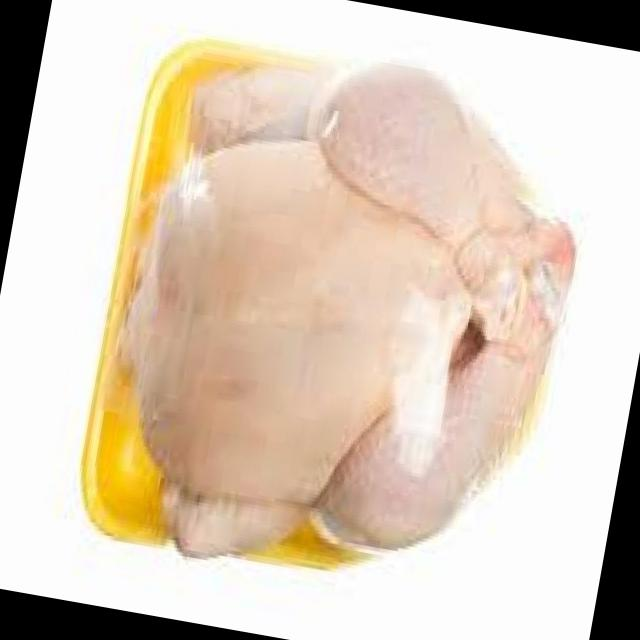chicken: (71, 12, 608, 620)
